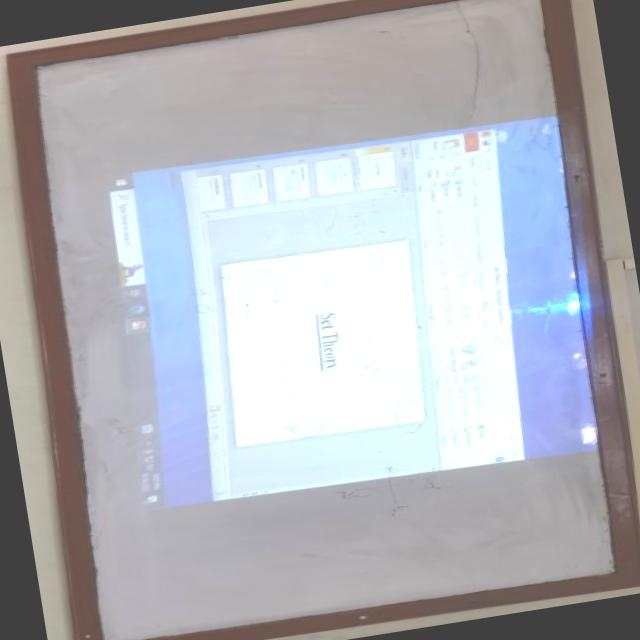Slide: (80, 113, 603, 515)
White-board: (12, 0, 633, 640)
